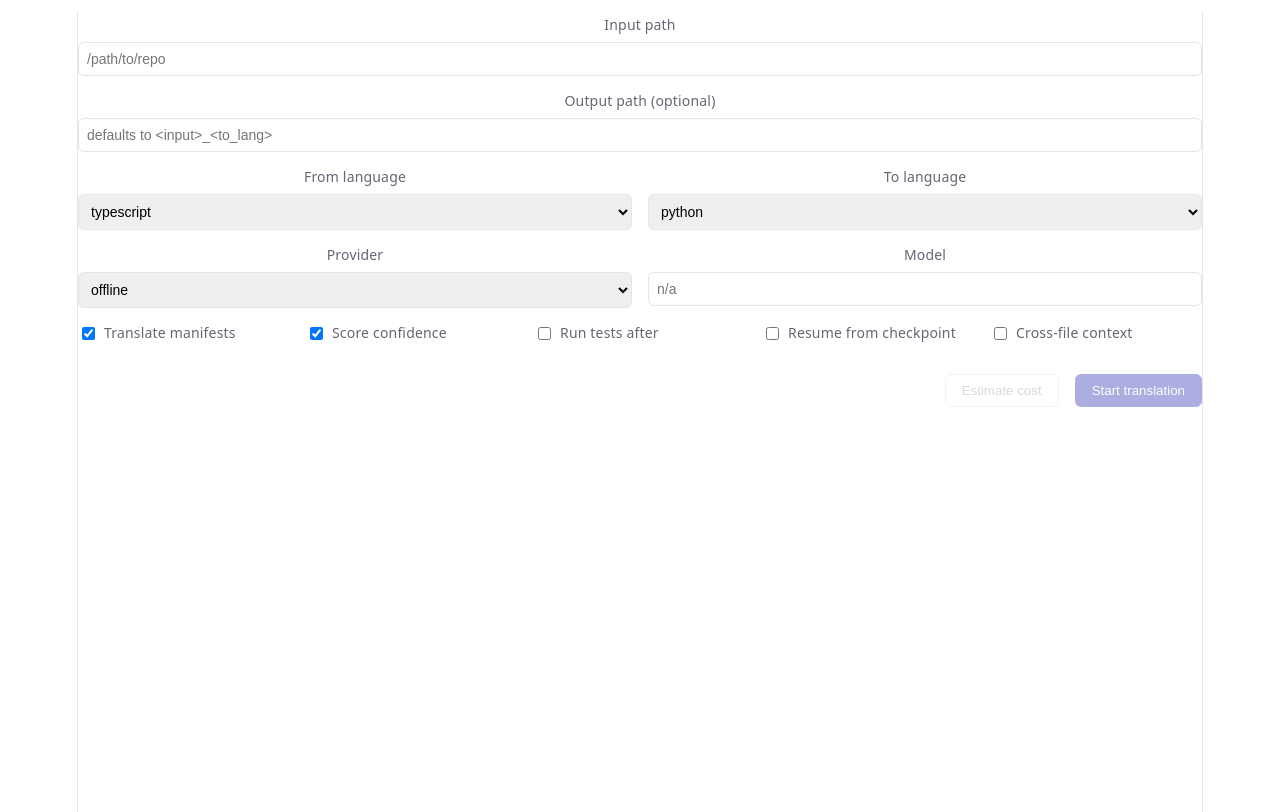
it: TranslateForm › switches to a model <select> when choosing a non-freeform provider
expect the text "From language" is shown: met, box [78,164,632,230]
Select "claude" in the dropdown labelled "Provider": (355,290) [78,272,632,308]
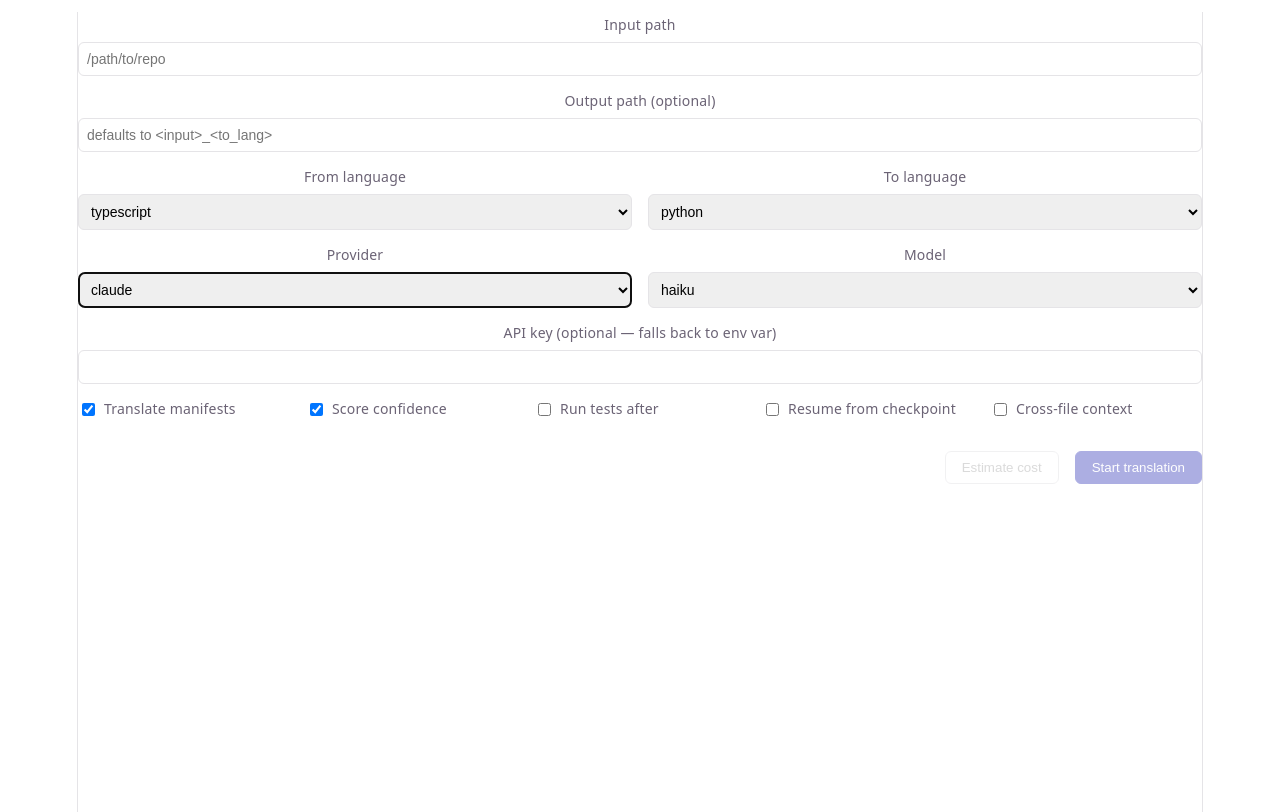
expect the dropdown labelled "Model" shows "haiku": met, box [648,272,1202,308]
